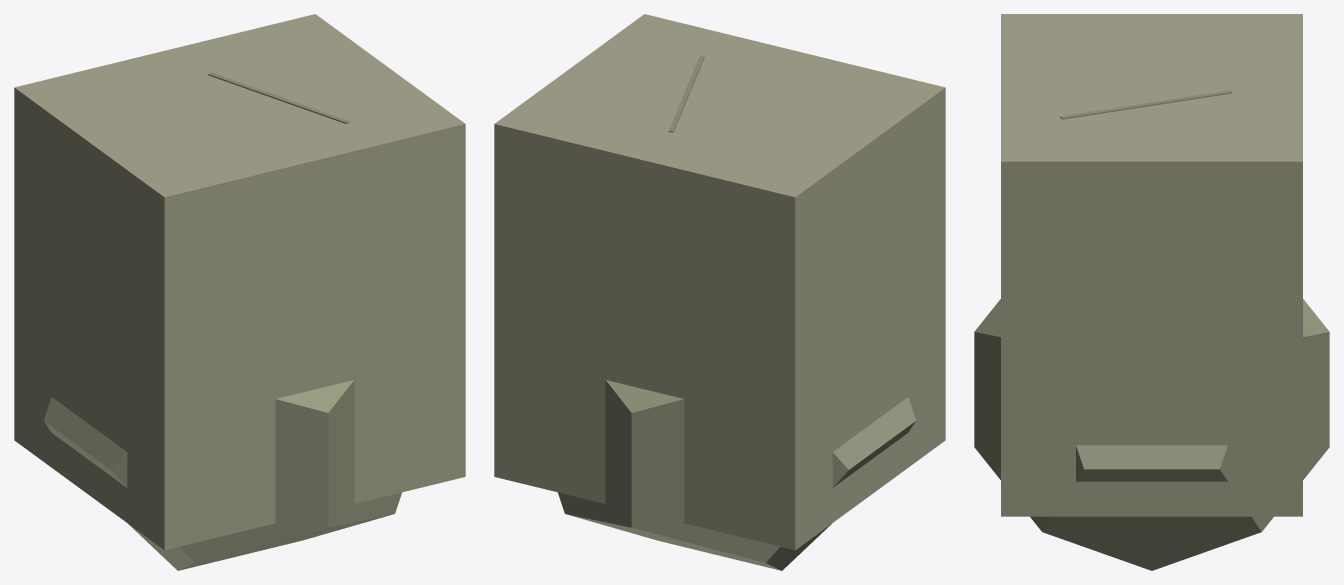
The model's file is terrain-stone-a4a48c.glb.
The picture shows the model from 3 angles, left to right: view 1: azimuth 30°, elevation 25°; view 2: azimuth 150°, elevation 25°; view 3: azimuth 270°, elevation 25°; orthographic projection.
Visible parts, largest first — view 1: terrain-stone-a4a48c; view 2: terrain-stone-a4a48c; view 3: terrain-stone-a4a48c.
Part boxes in pixels (left/top/right/bottom): terrain-stone-a4a48c: left=14, top=14, right=465, bottom=570; terrain-stone-a4a48c: left=494, top=14, right=945, bottom=570; terrain-stone-a4a48c: left=974, top=14, right=1329, bottom=570.
Bounding box in the file's own units: 1.35 × 1.79 × 1.27.
